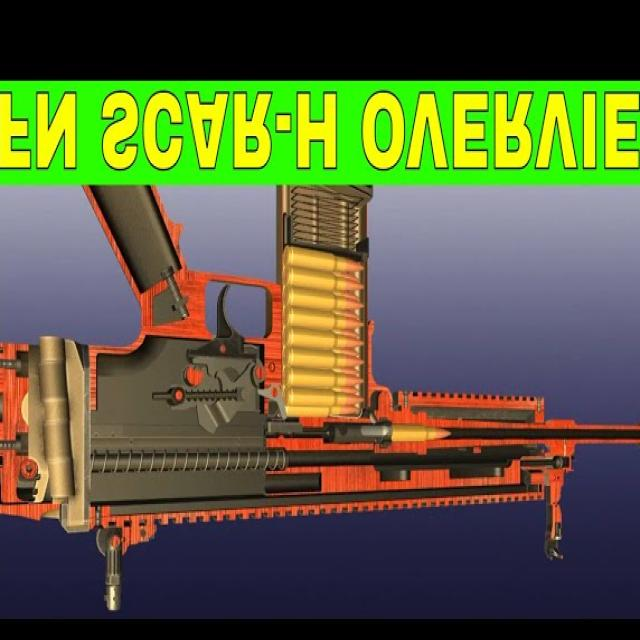Gun: (0, 180, 640, 586)
